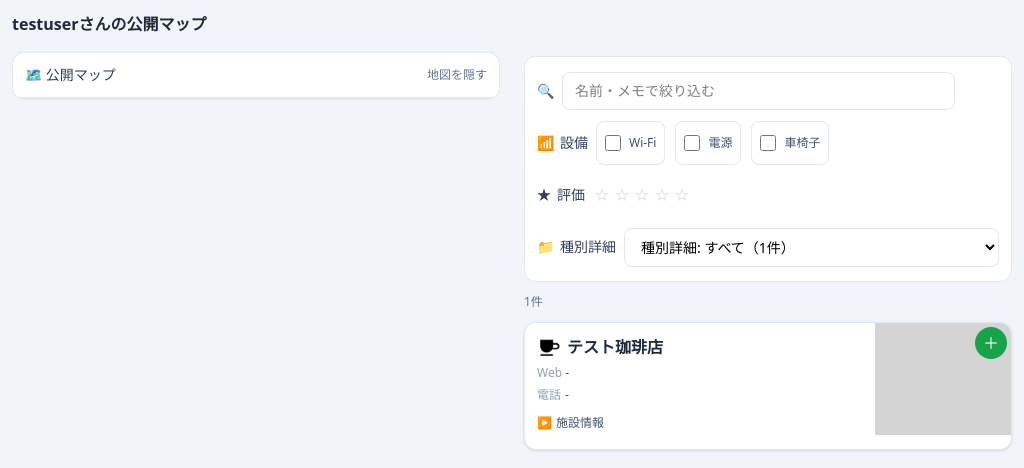
Test: ピースG2: フィルタ・メモ帳追加 › 絞り込みで0件のときは案内文が出て、リセットで復旧する
The width and height of the screenshot is (1024, 468).
Expected: the heading "テスト珈琲店" is shown, [567, 335, 663, 359]
Type "図書館" into the field labelled "名前・メモで絞り込む" at (758, 91), box [562, 72, 955, 110]
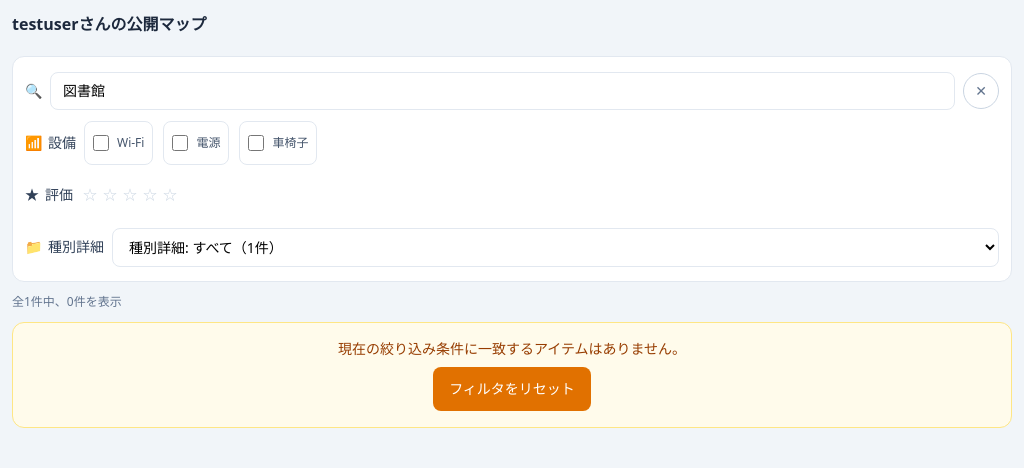
Expected: the text "現在の絞り込み条件に一致するアイテムはありません。" is shown, [338, 339, 686, 358]
Expected: the heading "テスト珈琲店" is gone
Click the button "フィルタをリセット" at (512, 389), box [433, 367, 591, 411]
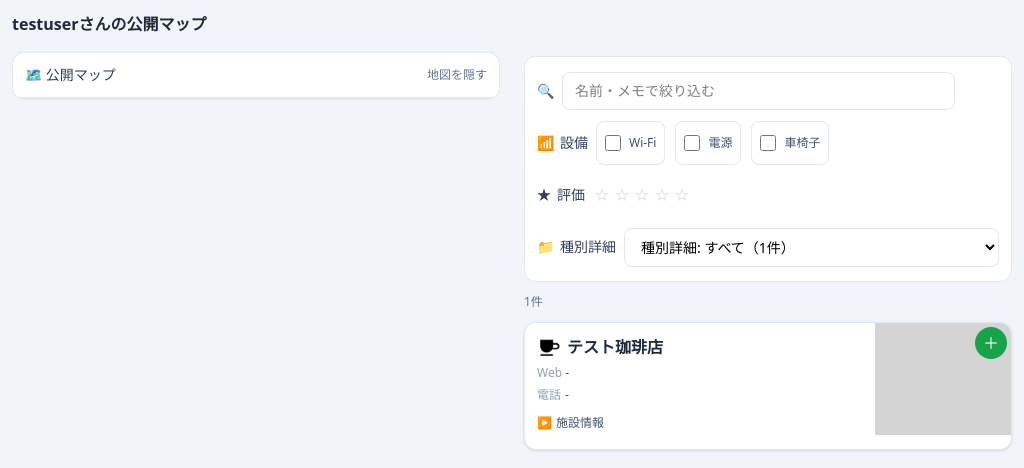
Expected: the text "1件" is shown, [524, 293, 543, 310]
Expected: the heading "テスト珈琲店" is shown, [567, 335, 663, 359]
